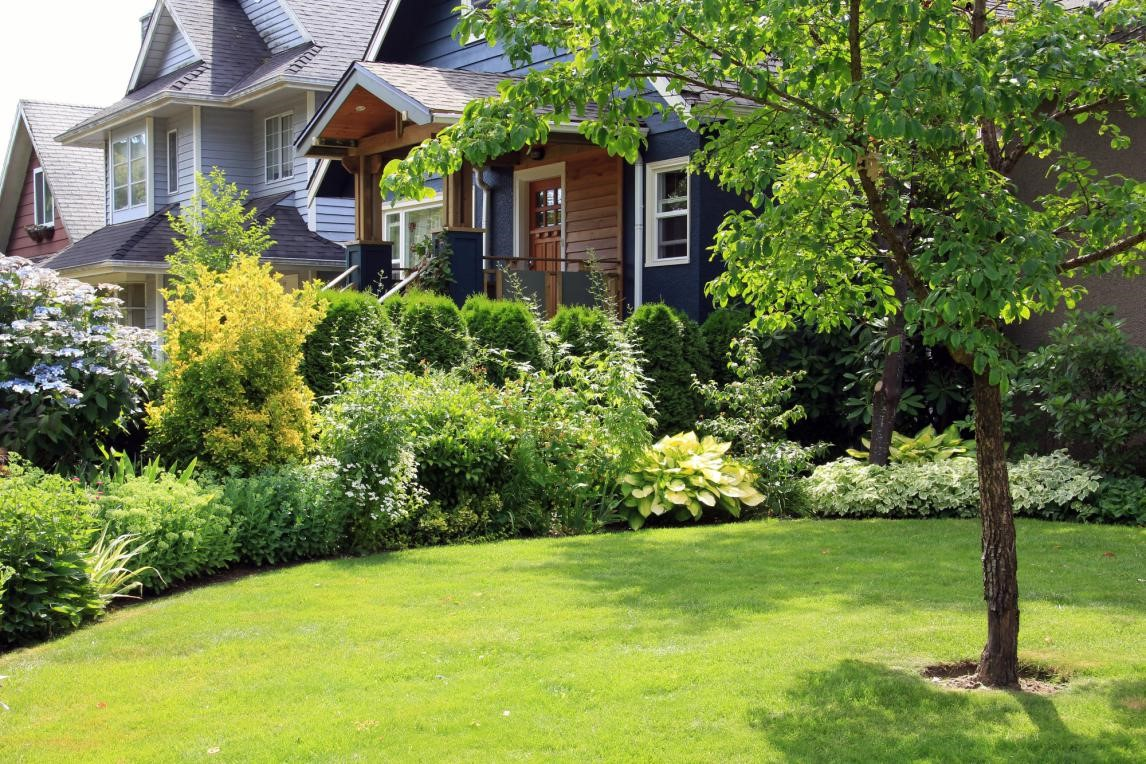bush: (146, 268, 740, 543)
tree: (425, 7, 1145, 698)
